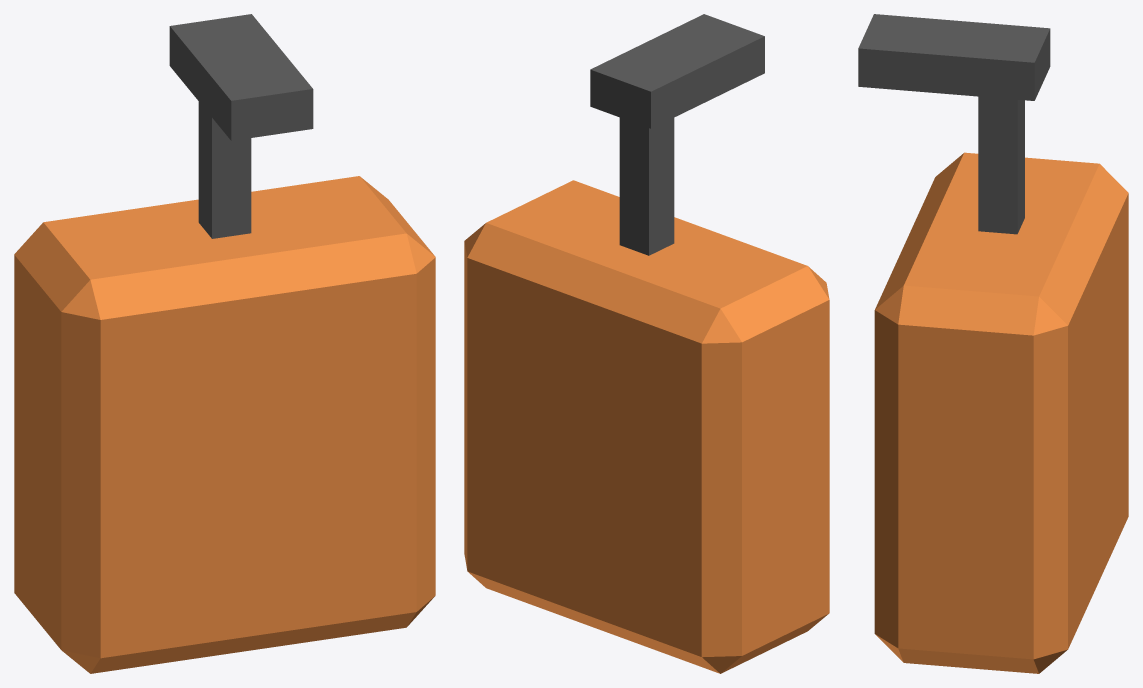
Rendered from Dispenser1.fbx.
The picture shows the model from 3 angles, left to right: view 1: azimuth 30°, elevation 25°; view 2: azimuth 150°, elevation 25°; view 3: azimuth 270°, elevation 25°; orthographic projection. The views are drawn at different scales.
Visible parts, largest first — view 1: Dispenser1; view 2: Dispenser1; view 3: Dispenser1.
Part boxes in pixels (bbox=[...]): Dispenser1: bbox=[14, 14, 435, 673]; Dispenser1: bbox=[464, 14, 829, 673]; Dispenser1: bbox=[858, 14, 1128, 673].
Size of the model in its own units: 16.2 by 10.99 by 25.09.
